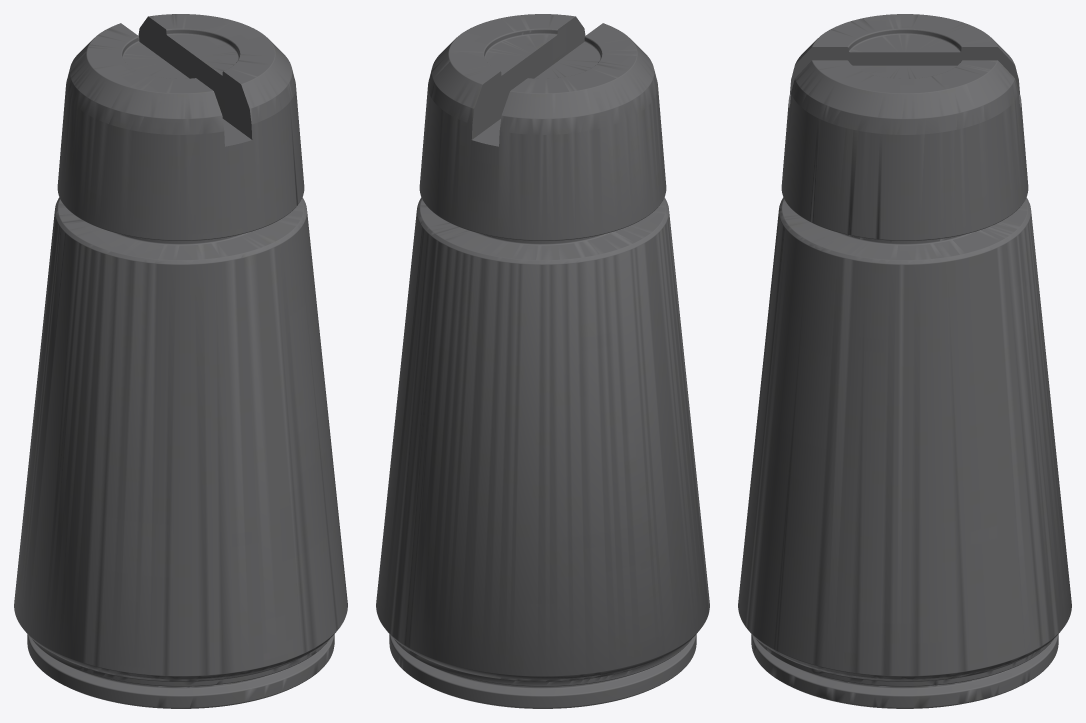
Rendered from rook-black-hd.glb.
3 renders of one model, left to right at view 1: azimuth 30°, elevation 25°; view 2: azimuth 150°, elevation 25°; view 3: azimuth 270°, elevation 25°, orthographic.
Visible parts, largest first — view 1: 05_vez_cerna; view 2: 05_vez_cerna; view 3: 05_vez_cerna.
Part boxes in pixels (x1,y1,x2,y2): 05_vez_cerna: (14, 14, 347, 708); 05_vez_cerna: (376, 14, 709, 708); 05_vez_cerna: (738, 14, 1071, 708).
Size of the model in its own units: 0.593 by 1.16 by 0.593.
1 material, 1 textured.
